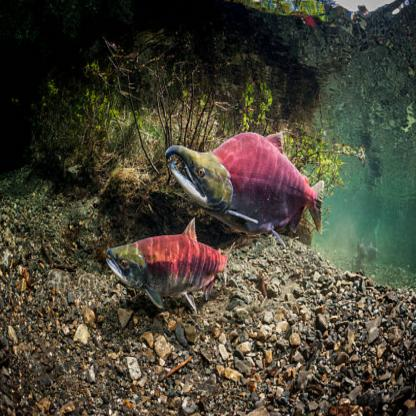sockeye: (168, 128, 324, 220), (101, 228, 221, 316)
